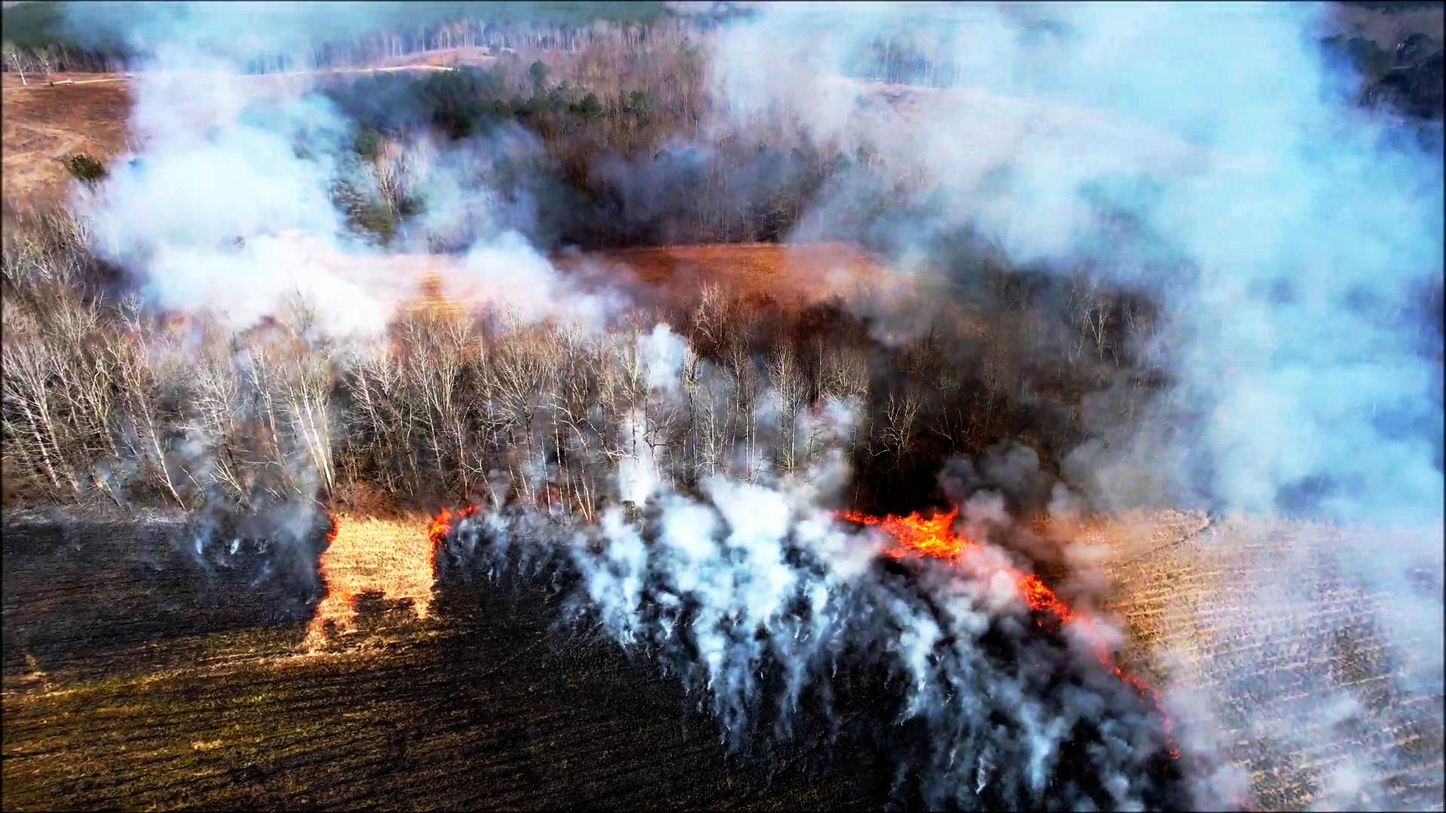fire: (877, 493, 972, 580)
smoke: (708, 19, 1446, 358), (1115, 373, 1446, 813), (60, 8, 422, 346), (595, 474, 877, 749), (441, 105, 700, 403), (885, 602, 1141, 813)
